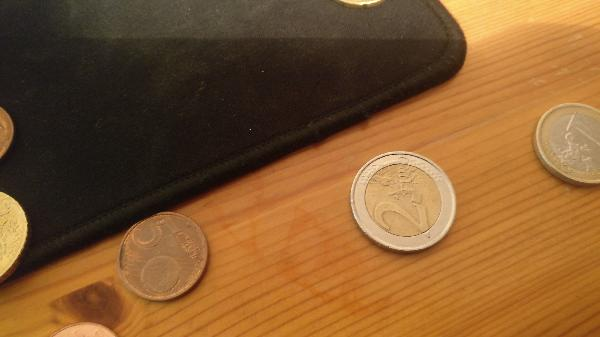Five Cent: (116, 213, 215, 302)
One Euro: (534, 103, 600, 188)
Two Euro: (348, 150, 459, 252)
